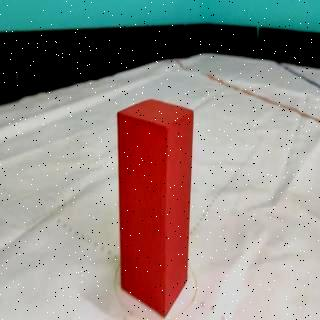redbox: (117, 98, 194, 317)
